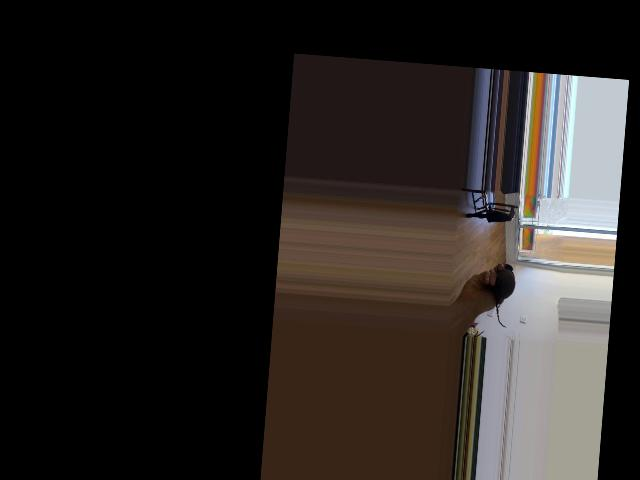beet: (490, 262, 516, 327)
